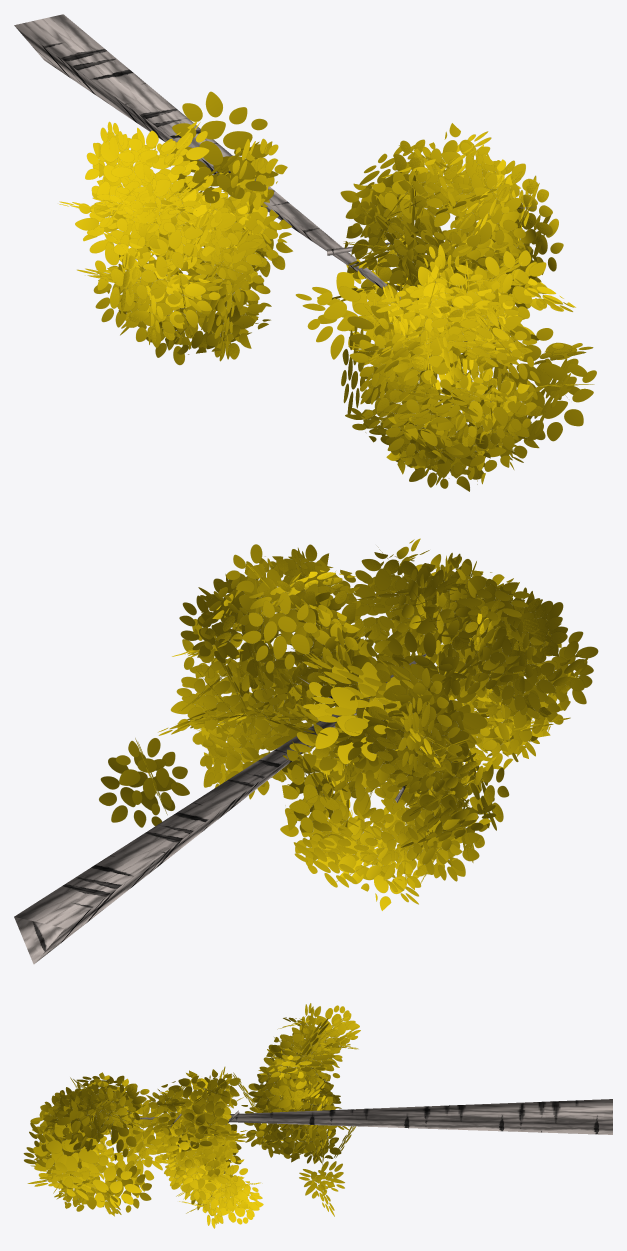
Rendered from BirchTree_1.glb.
The picture shows the model from 3 angles, top to bottom: view 1: azimuth 30°, elevation 25°; view 2: azimuth 150°, elevation 25°; view 3: azimuth 270°, elevation 25°; orthographic projection. The views are drawn at different scales.
Visible parts, largest first — view 1: BirchTree_1; view 2: BirchTree_1; view 3: BirchTree_1.
Part boxes in pixels (bbox=[...]): BirchTree_1: bbox=[14, 14, 596, 491]; BirchTree_1: bbox=[14, 538, 598, 964]; BirchTree_1: bbox=[23, 1003, 612, 1228].
Size of the model in its own units: 2.62 by 1.94 by 5.44.
Materials: 2 (2 with a texture image).
